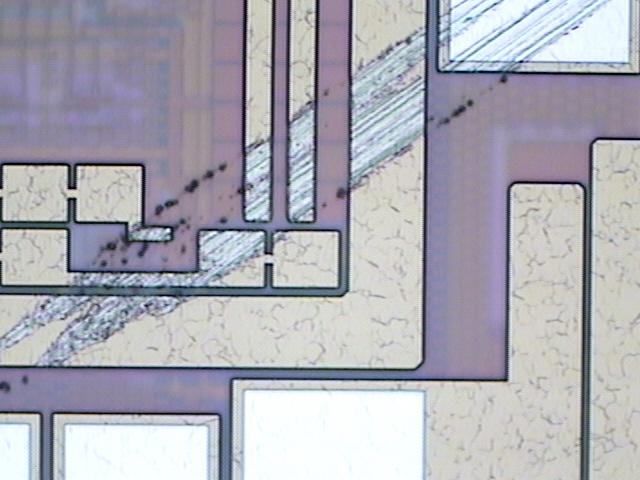SCRATCH: (1, 1, 622, 400)
